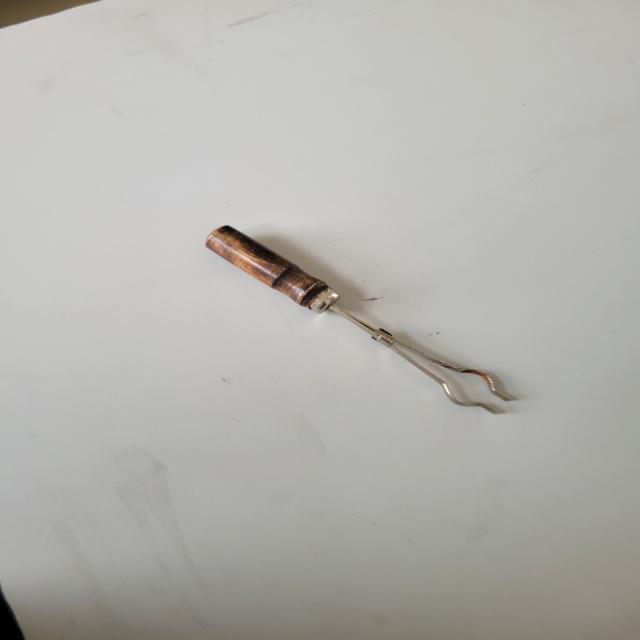TestTube_Holder: (172, 204, 543, 472)
